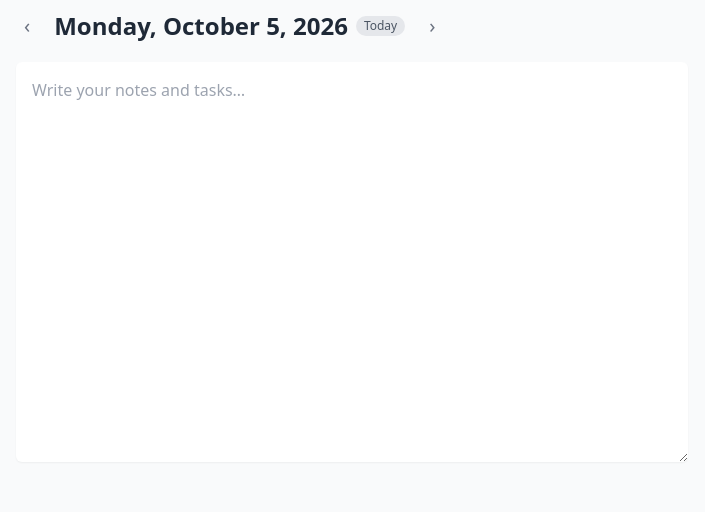
DailyNoteView › editing › auto-saves edits after a debounce without an explicit save button
Type "New task" into the text box with placeholder "Write your notes and tasks…" at x=352, y=262, box [16,62,688,462]
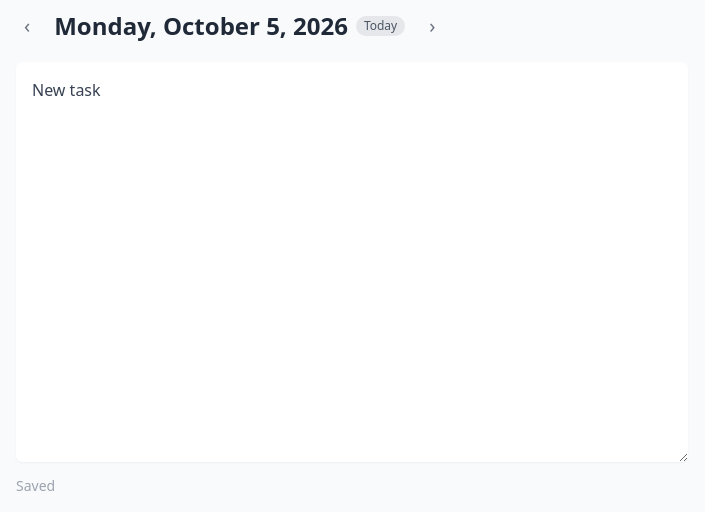
Check: the text "Saved" is shown, box [16,476,55,495]
